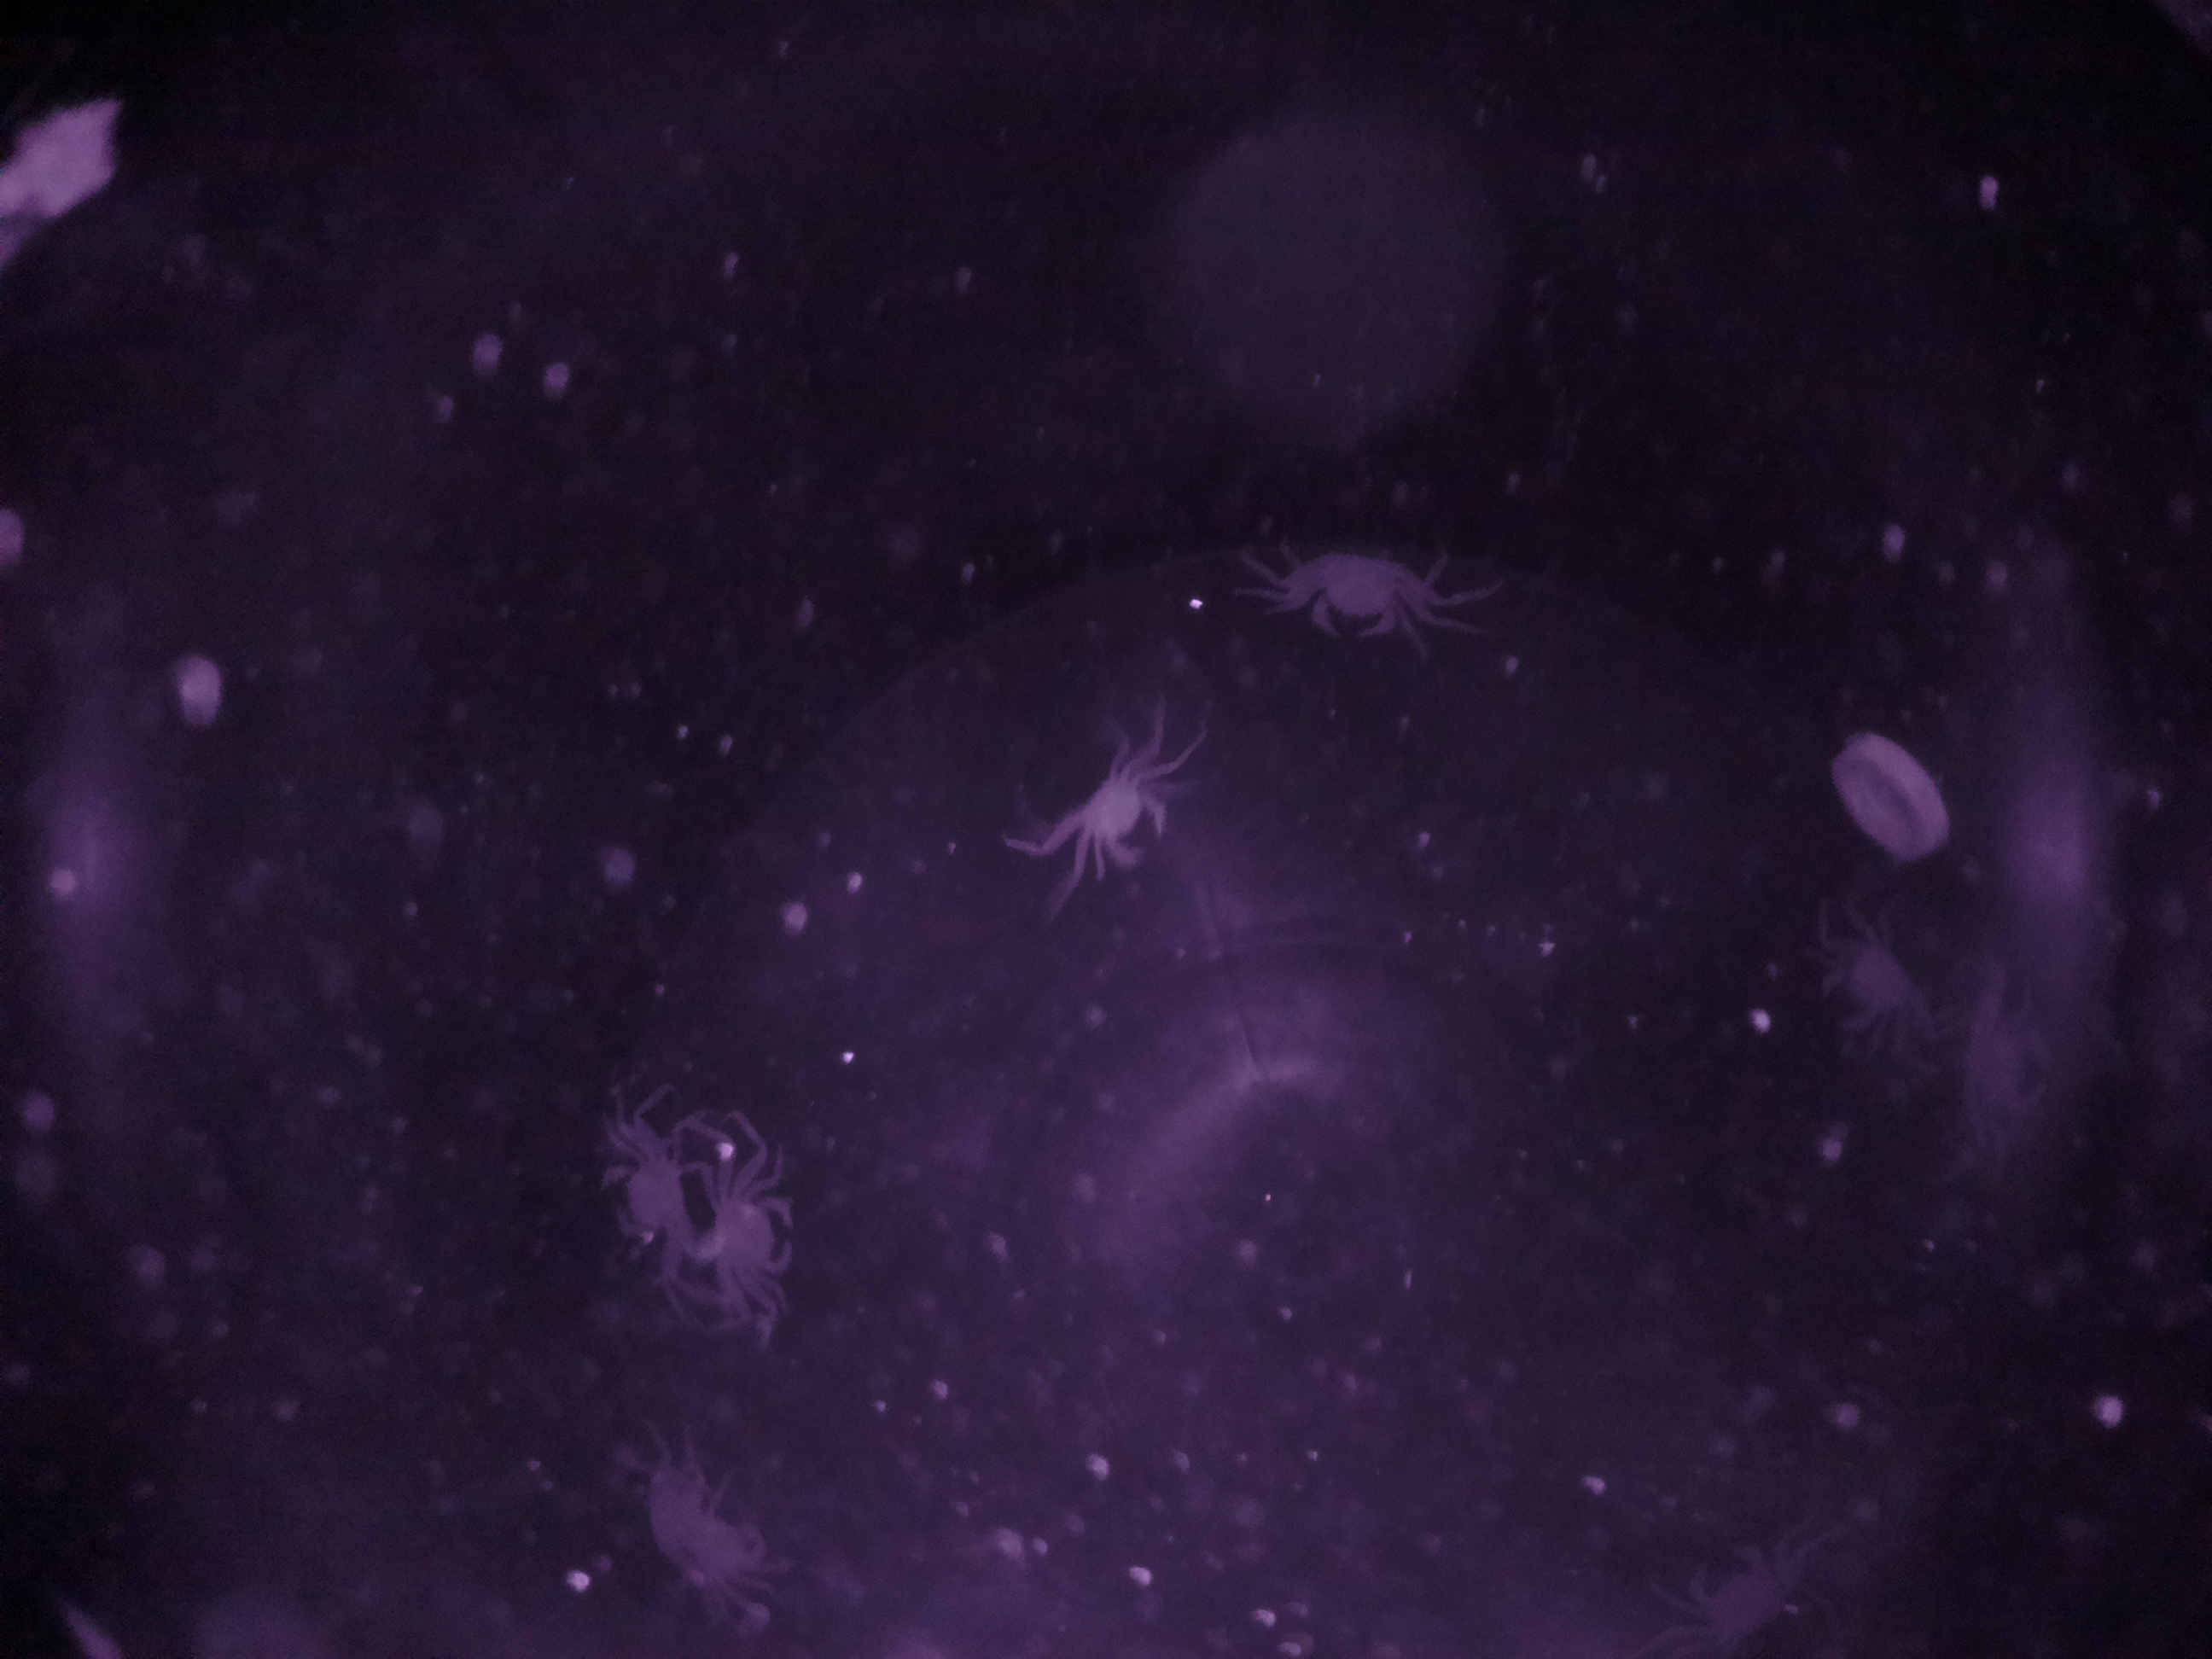Crab: (1273, 528, 1426, 659), (695, 1171, 810, 1305), (1075, 762, 1181, 887)
